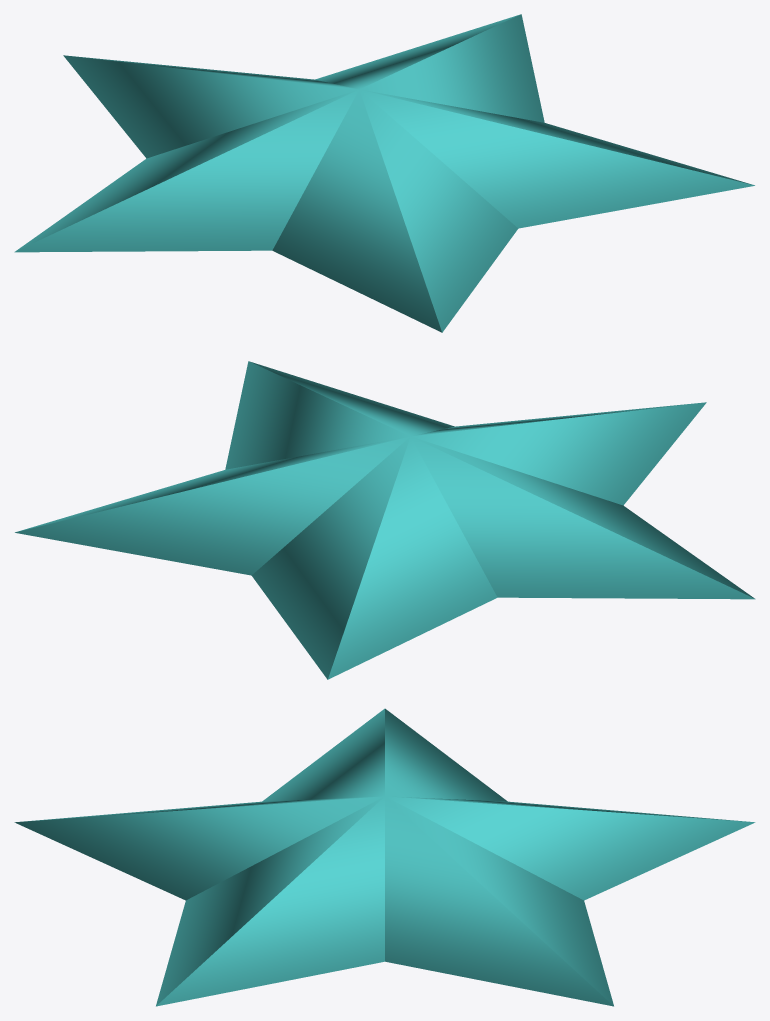
The picture shows the model from 3 angles, top to bottom: view 1: azimuth 30°, elevation 25°; view 2: azimuth 150°, elevation 25°; view 3: azimuth 270°, elevation 25°; orthographic projection. The views are drawn at different scales.
Visible parts, largest first — view 1: Star001; view 2: Star001; view 3: Star001.
Part boxes in pixels (box(x1,y1,x2,y2)): Star001: box(14, 14, 754, 332); Star001: box(15, 361, 755, 679); Star001: box(14, 708, 755, 1006).
Size of the model in its own units: 101 by 24.33 by 106.
